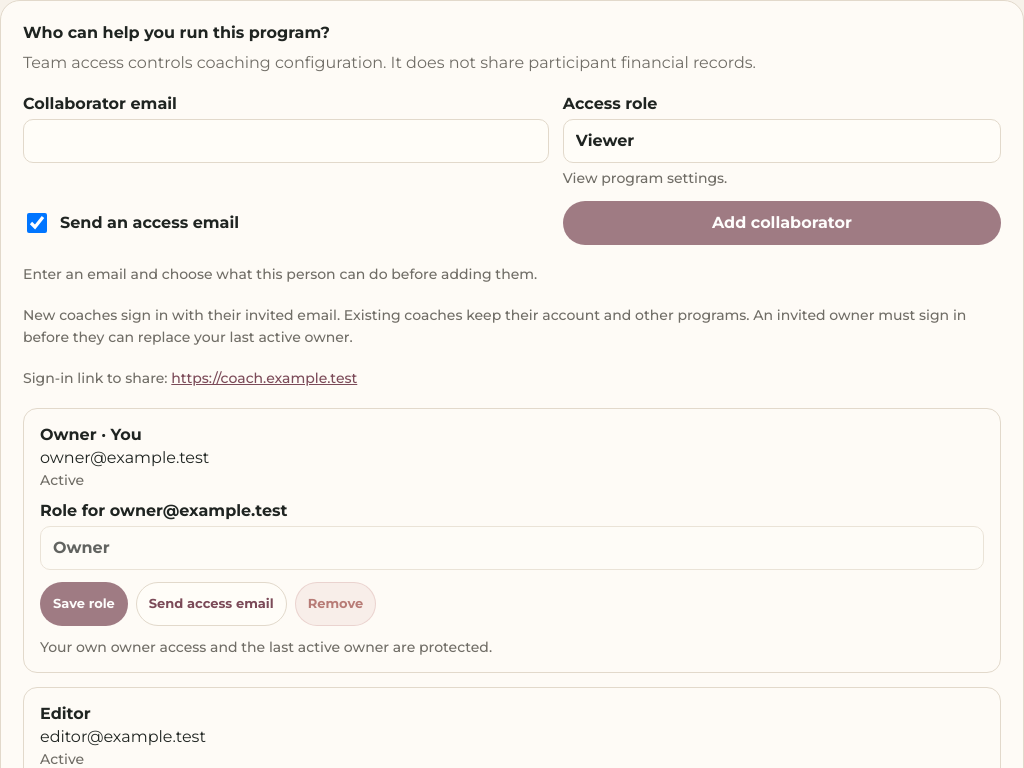
Test: WorkspaceCollaborators › reports failed email confirmation after saved access and does not imply delivery
Expected: the element named "owner@example.test team access" is shown, [23, 408, 1001, 673]
In the field labelled "Collaborator email": [286, 141] box [23, 119, 549, 163], type "new@example.test"
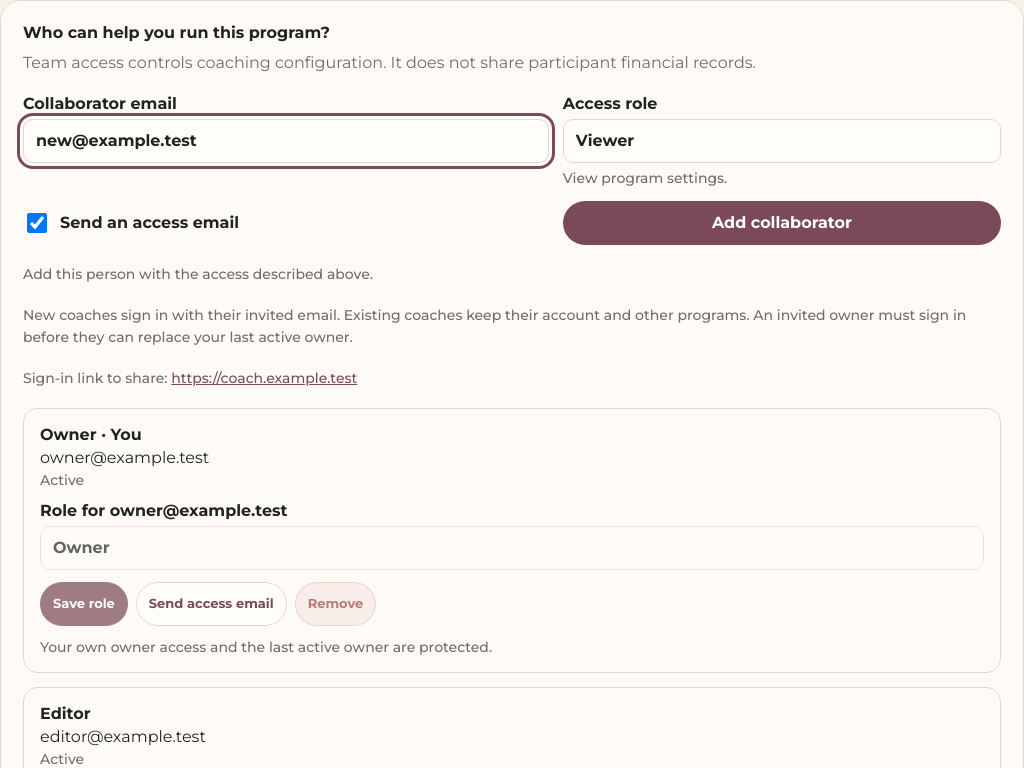
Click the button "Add collaborator": [782, 223] box [563, 201, 1001, 245]
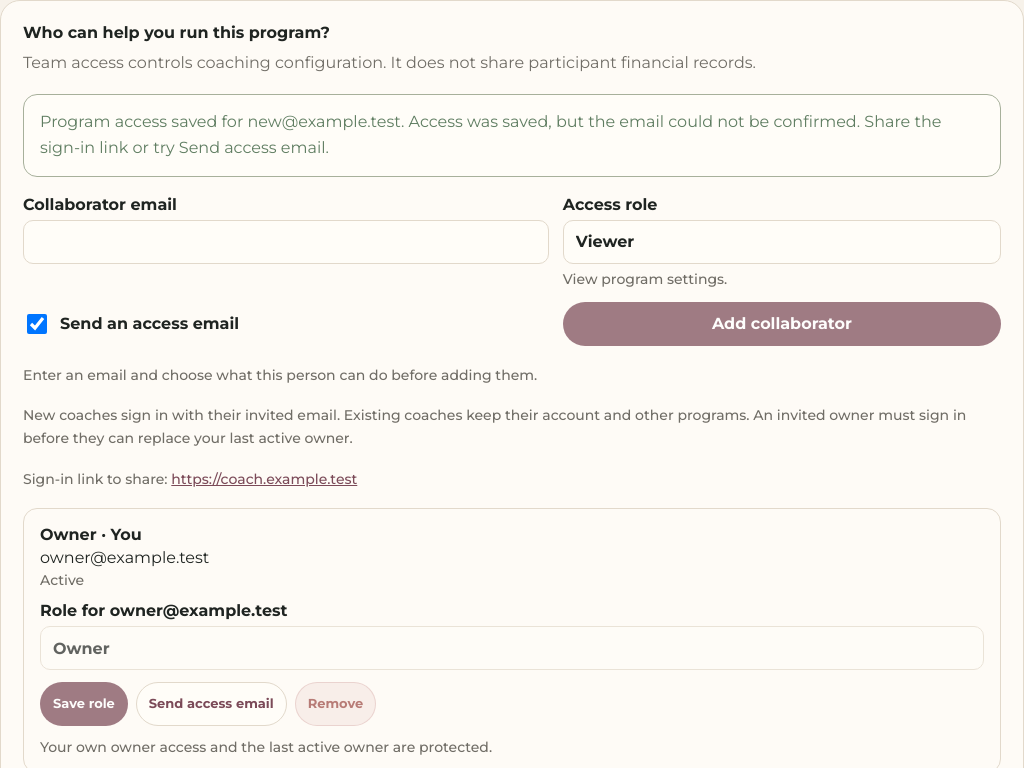
Now the message shows "Access was saved, but the email could not be confirmed", box [40, 112, 941, 157]
